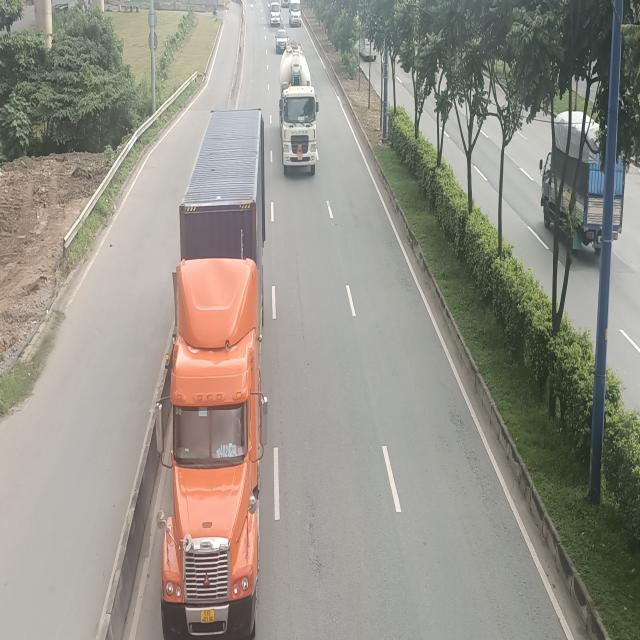car: (276, 29, 288, 55)
container: (155, 109, 268, 640), (279, 41, 319, 176)
truck: (270, 0, 281, 25)
van: (289, 0, 301, 27)
